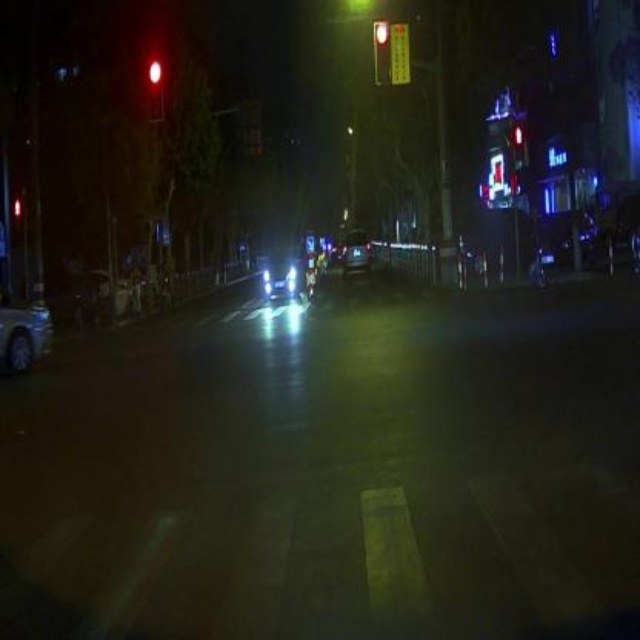Đèn đỏ: (375, 18, 391, 88), (147, 54, 163, 120)
